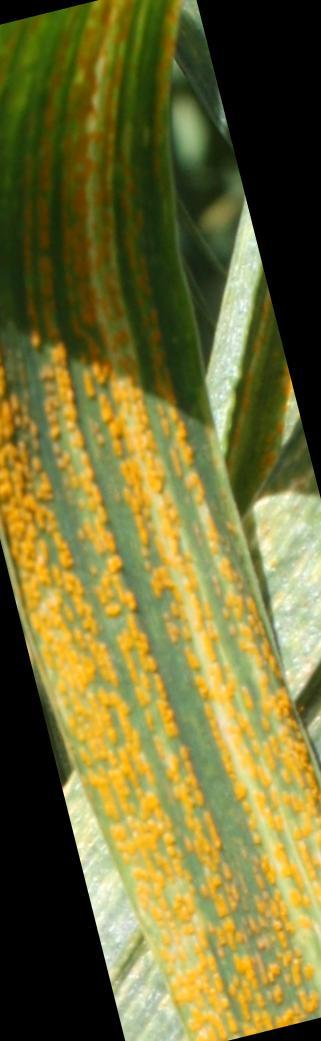Wheat: (1, 33, 197, 559), (162, 719, 321, 1041), (1, 560, 290, 725)
